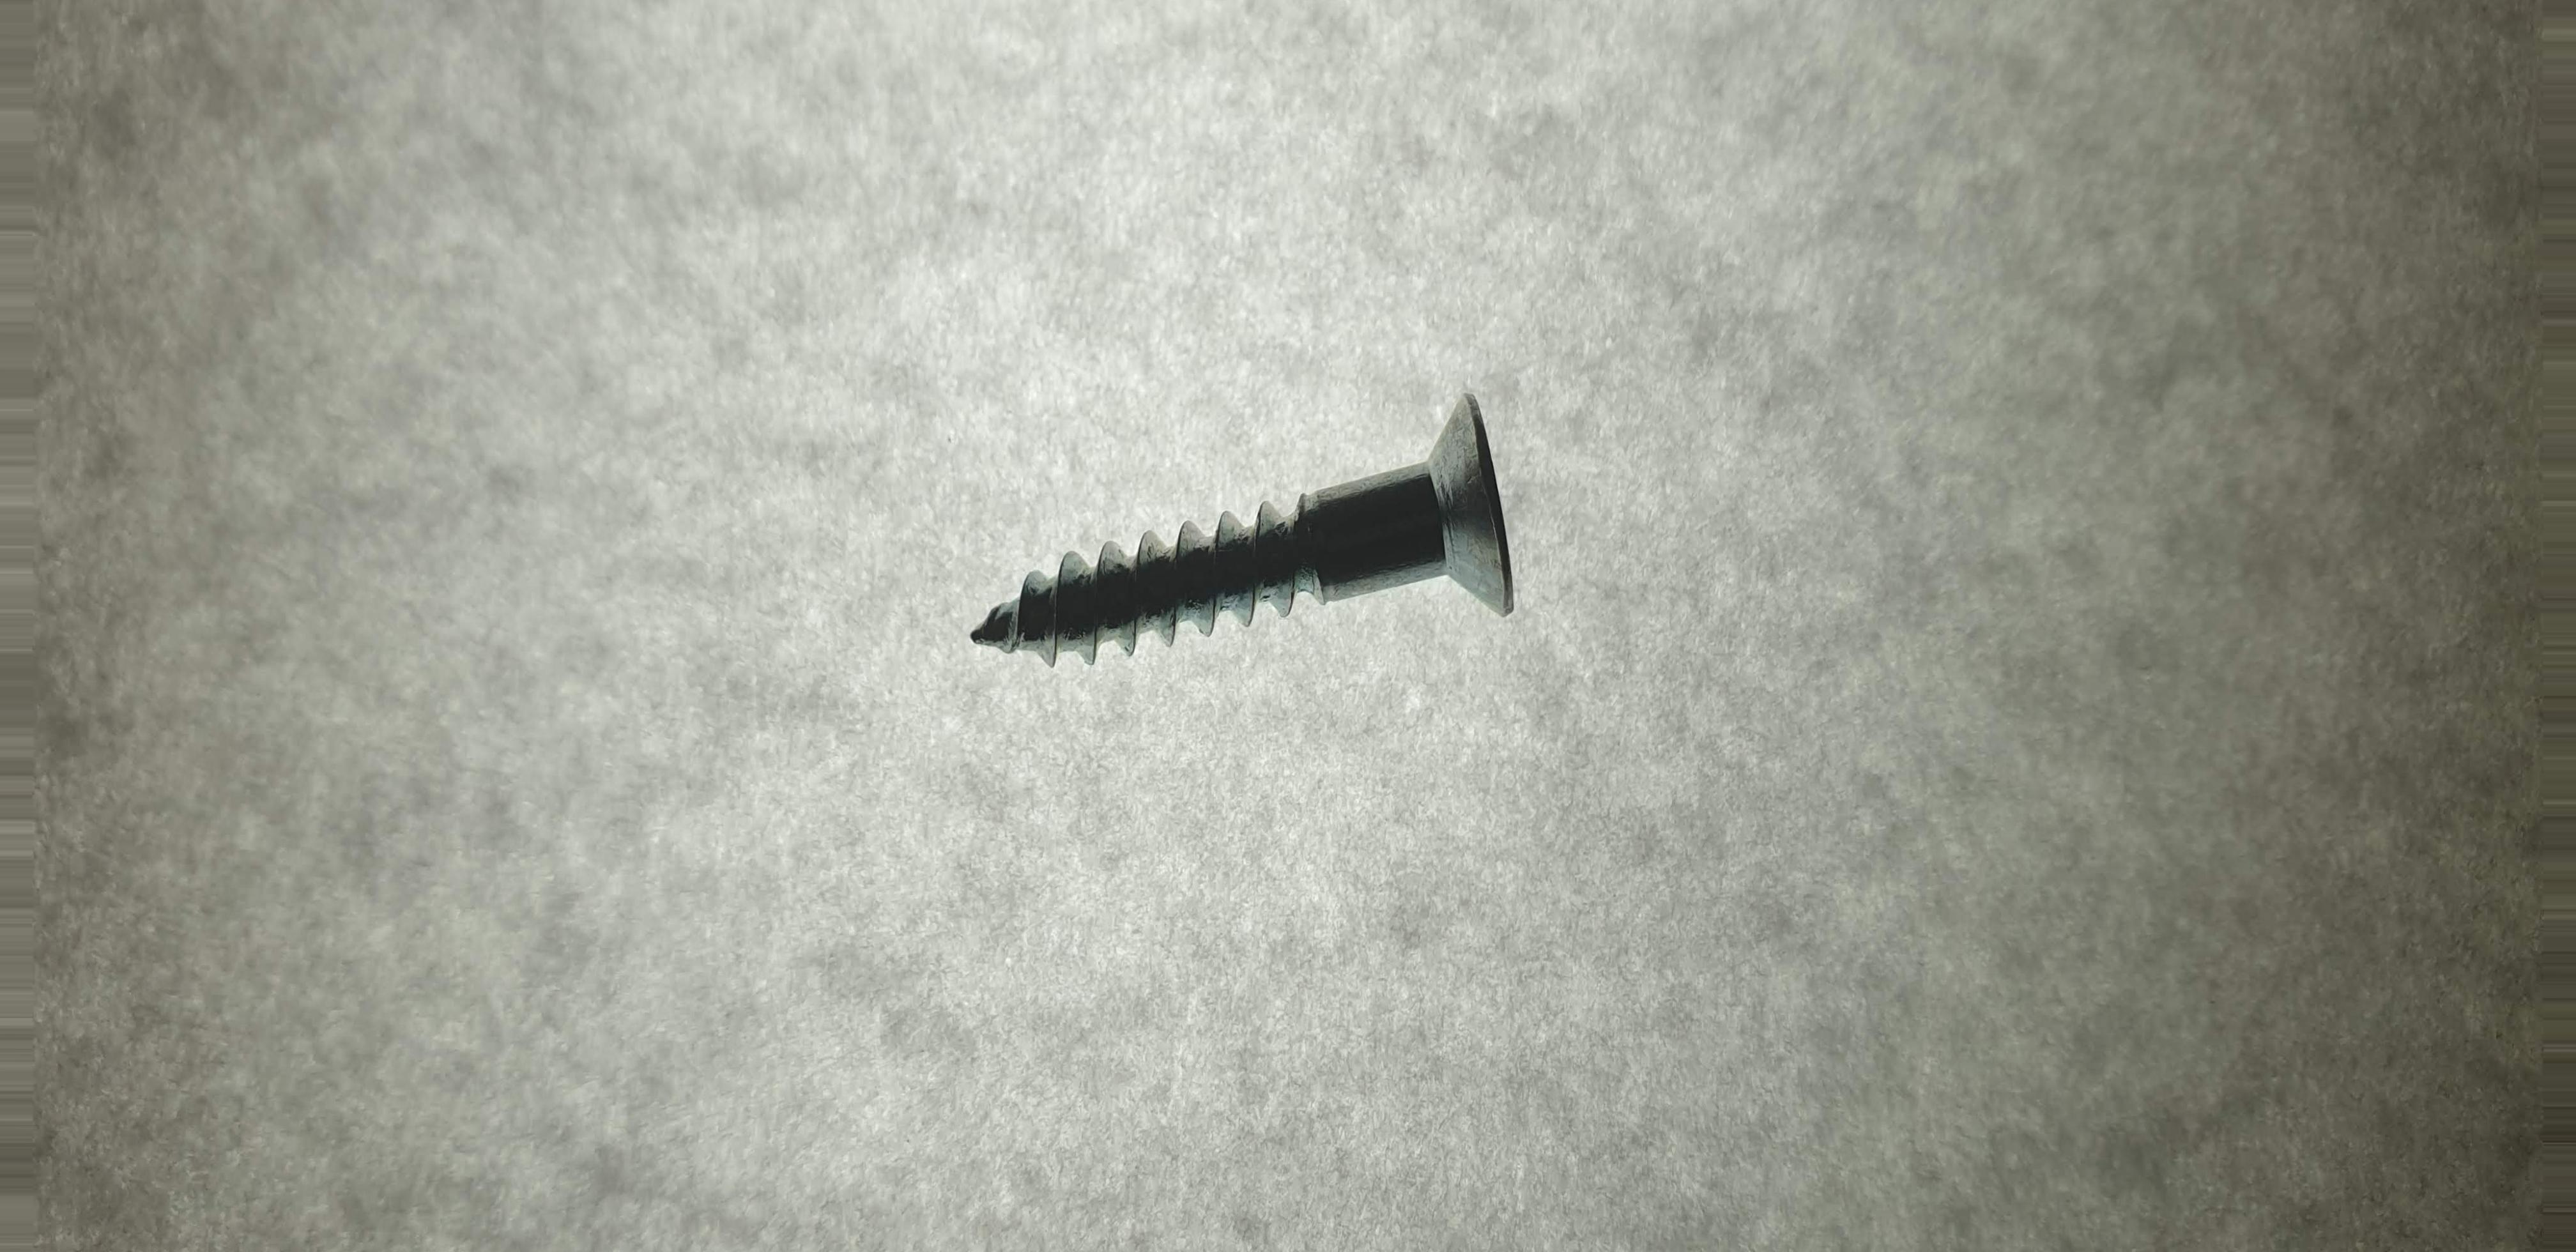S005: (864, 357, 1672, 771)
